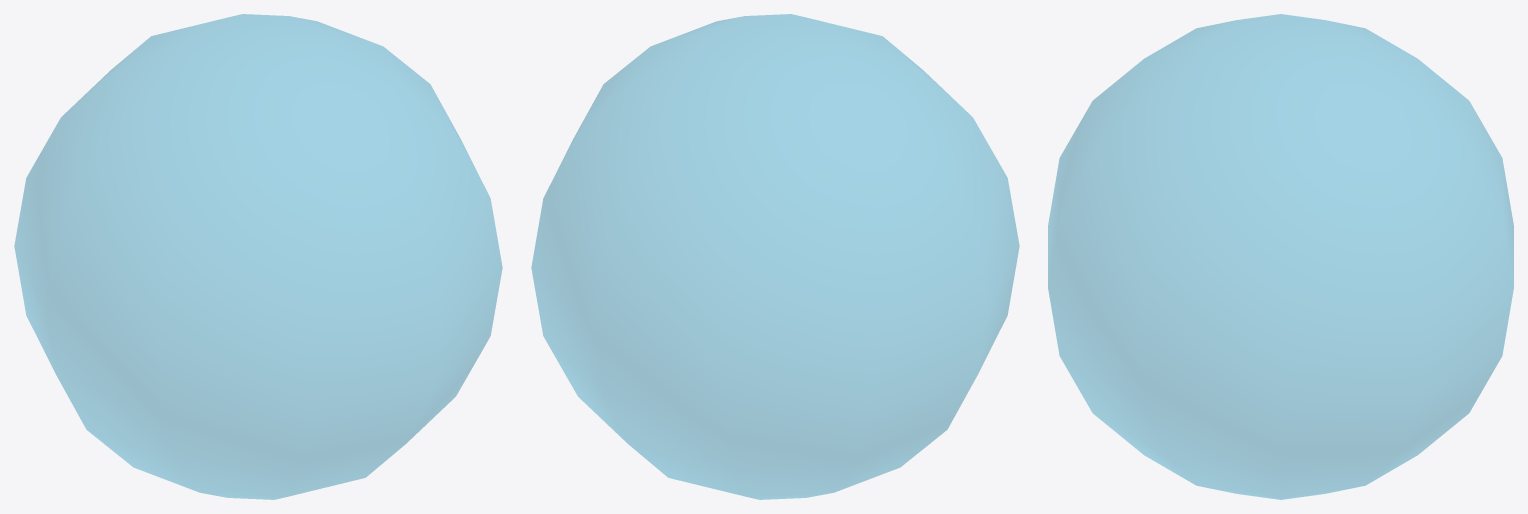
The model's file is tide.glb.
3 renders of one model, left to right at view 1: azimuth 30°, elevation 25°; view 2: azimuth 150°, elevation 25°; view 3: azimuth 270°, elevation 25°, orthographic.
Size of the model in its own units: 0.1731 by 0.1731 by 0.1646.
